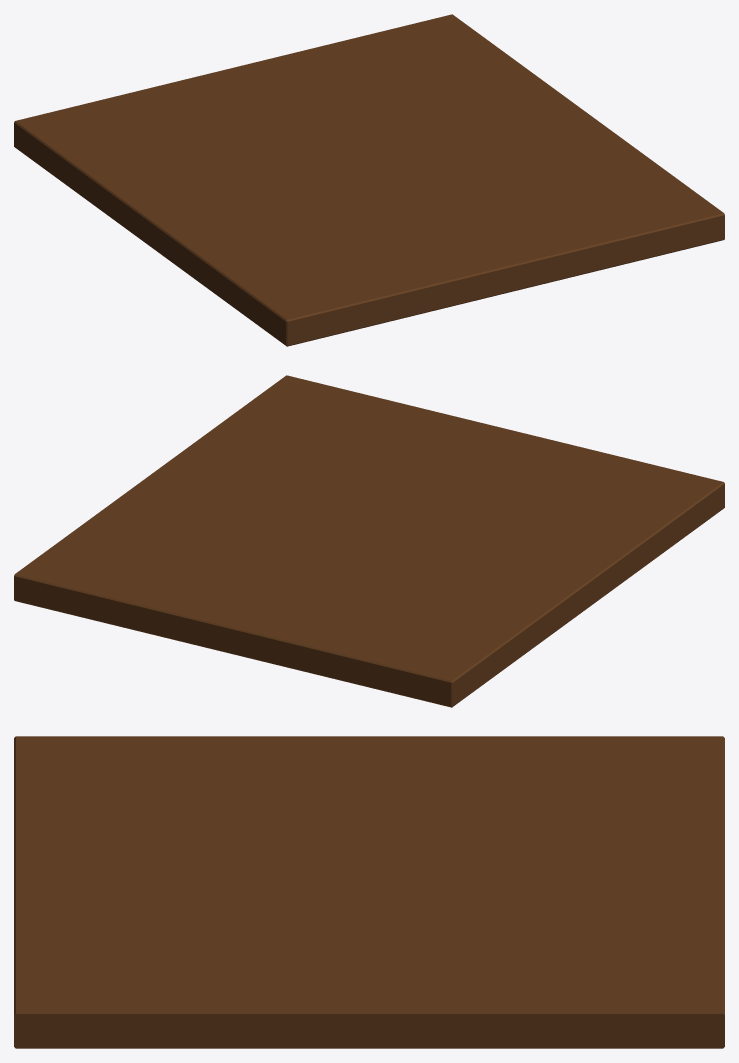
Rendered from DRAWBRIDGE_PLATFORM.fbx.
3 views of the same model, one above another, from view 1: azimuth 30°, elevation 25°; view 2: azimuth 150°, elevation 25°; view 3: azimuth 270°, elevation 25° (orthographic). The views are drawn at different scales.
Parts seen in each view (by area): view 1: BRIDGE_DRAWBRIDGE_PLATFORM; view 2: BRIDGE_DRAWBRIDGE_PLATFORM; view 3: BRIDGE_DRAWBRIDGE_PLATFORM.
Part boxes in pixels (x1,y1,x2,y2): BRIDGE_DRAWBRIDGE_PLATFORM: [14, 14, 724, 346]; BRIDGE_DRAWBRIDGE_PLATFORM: [14, 375, 724, 707]; BRIDGE_DRAWBRIDGE_PLATFORM: [14, 736, 724, 1048].
Size of the model in its own units: 857 by 50 by 925.
